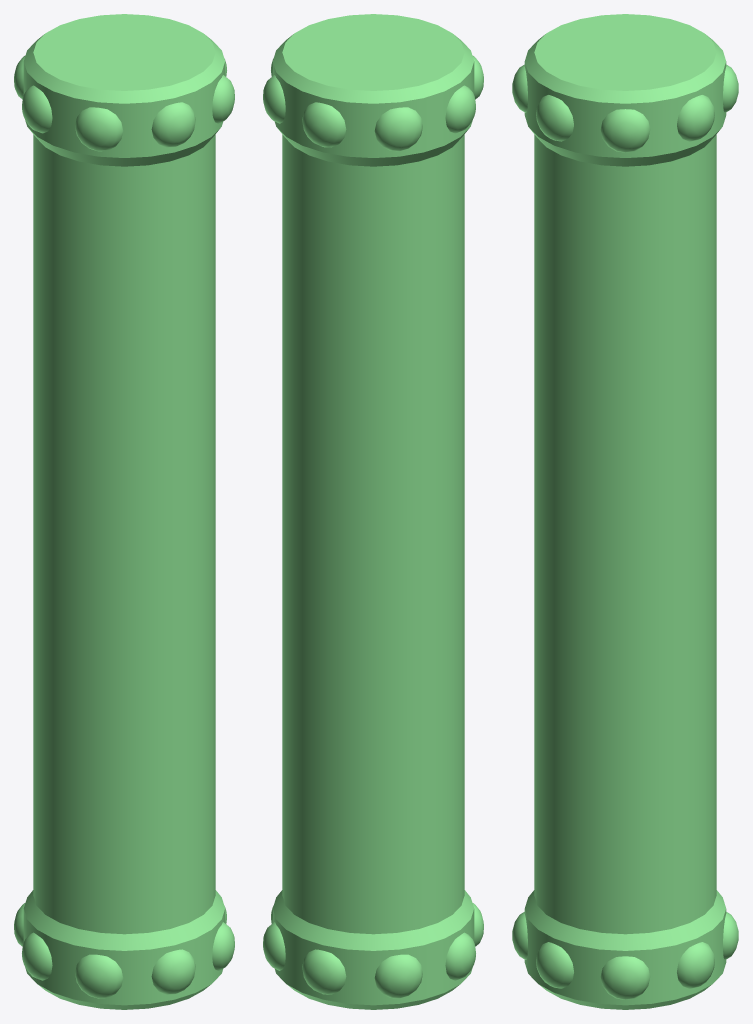
File: pipe_medium.fbx
The picture shows the model from 3 angles, left to right: view 1: azimuth 30°, elevation 25°; view 2: azimuth 150°, elevation 25°; view 3: azimuth 270°, elevation 25°; orthographic projection.
Parts seen in each view (by area): view 1: pipe_medium; view 2: pipe_medium; view 3: pipe_medium.
Part boxes in pixels (box(x1,y1,x2,y2)): pipe_medium: box(14, 14, 234, 1009); pipe_medium: box(263, 14, 483, 1009); pipe_medium: box(512, 14, 738, 1009).
Size of the model in its own units: 132 by 591 by 132.
